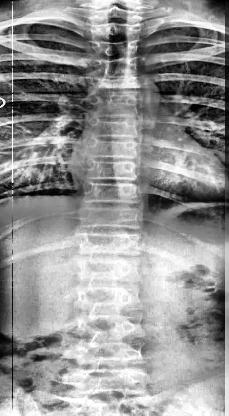Vertebrae: (75, 368, 148, 401), (73, 336, 145, 368), (75, 204, 145, 236), (74, 310, 146, 340), (75, 284, 144, 314), (75, 235, 145, 262), (81, 179, 148, 207), (76, 257, 143, 285), (86, 91, 142, 119), (83, 158, 141, 184), (86, 114, 142, 140), (86, 137, 142, 161), (91, 72, 143, 96), (88, 36, 142, 58), (88, 21, 144, 41), (94, 55, 142, 75)
